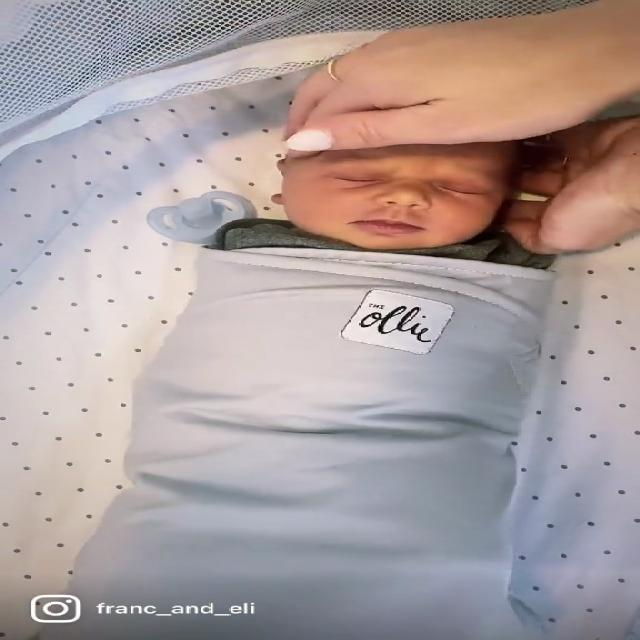baby: (35, 102, 562, 640)
